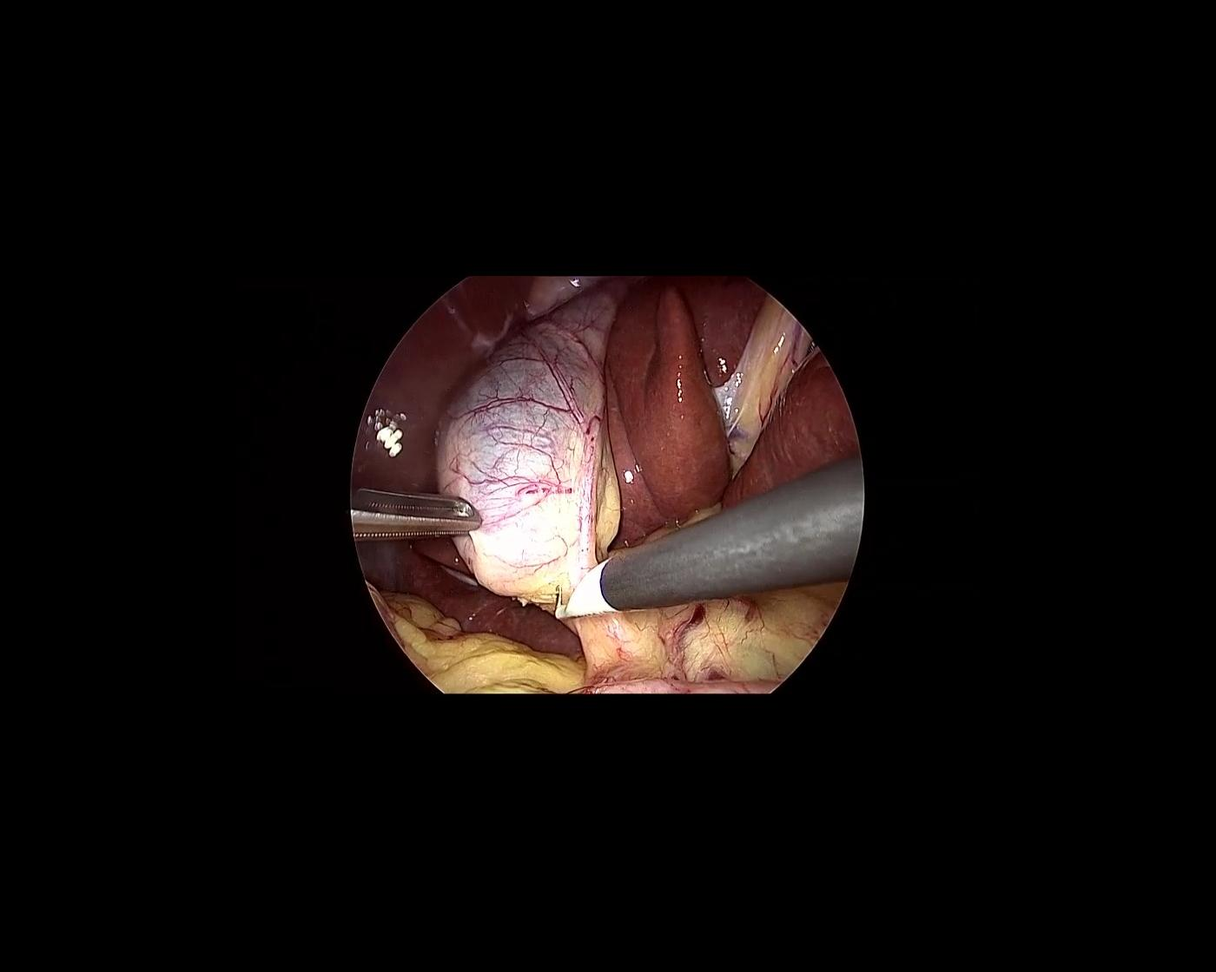Cautery: (536, 458, 875, 625)
Gallbladder: (439, 289, 620, 598)
Liver: (530, 229, 862, 548), (331, 272, 578, 677)
